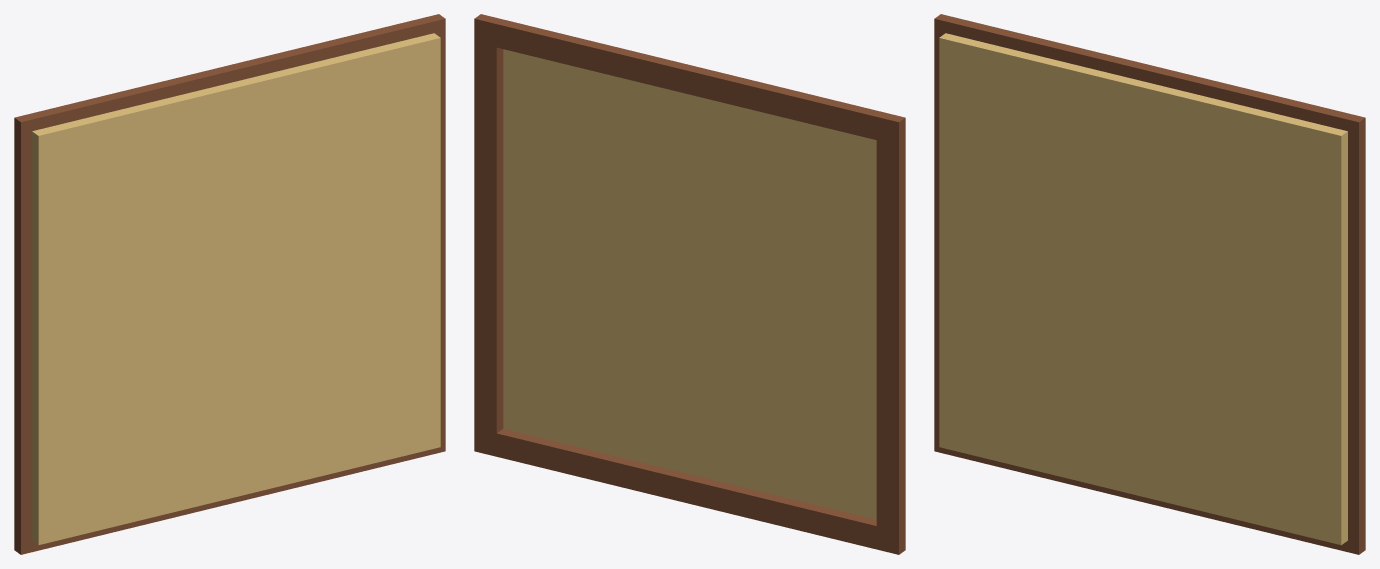
File: ArmoirPharma-0.obj
3 views of the same model, side by side, from view 1: azimuth 30°, elevation 25°; view 2: azimuth 150°, elevation 25°; view 3: azimuth 330°, elevation 25° (orthographic).
Bounding box in the file's own units: 3.8 × 3.7 × 0.2.
Materials: 1 (1 with a texture image).
